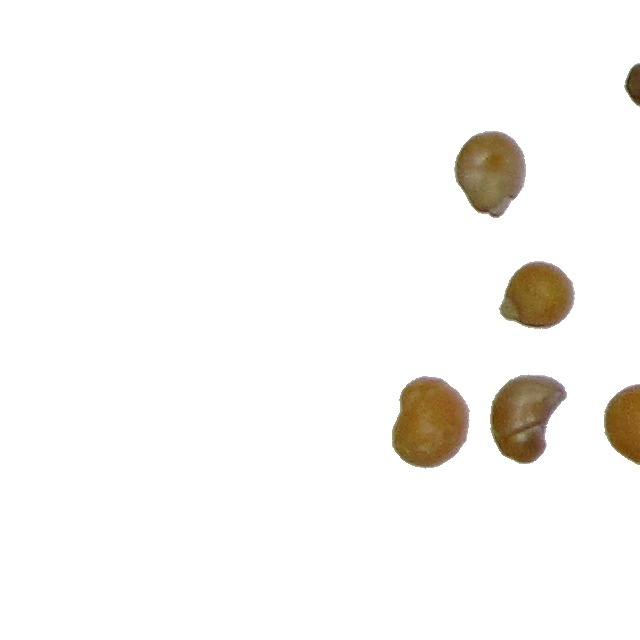buckwheat: (623, 62, 640, 108)
mais: (391, 375, 471, 470), (489, 373, 568, 465), (453, 130, 527, 219), (498, 260, 576, 330), (603, 382, 640, 472)
